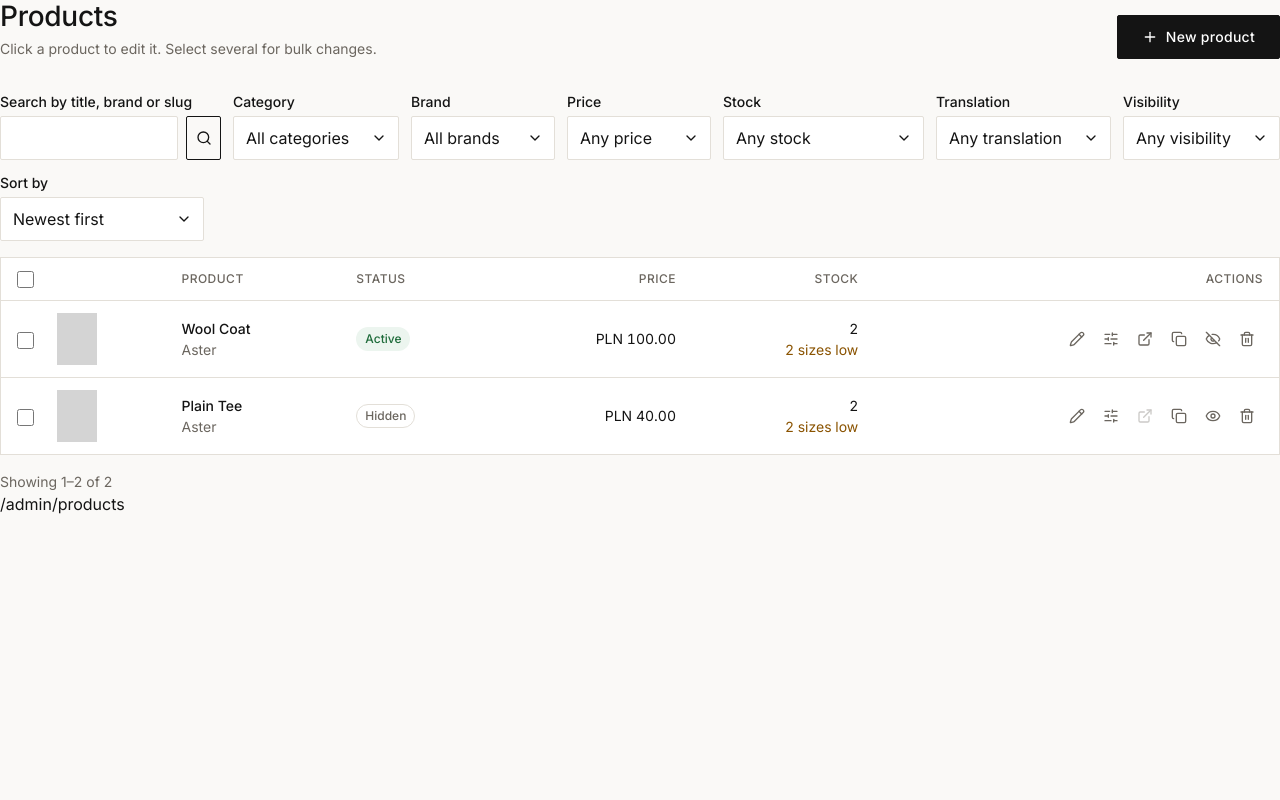
ProductsList › applies bulk actions to the selected products
Later steps or results of the test are not shown.
Expected: the link "Wool Coat" is shown, x1=182 y1=320 x2=251 y2=337
Click the checkbox named "Select all products on this page" at (25, 279), box x1=17 y1=271 x2=34 y2=288
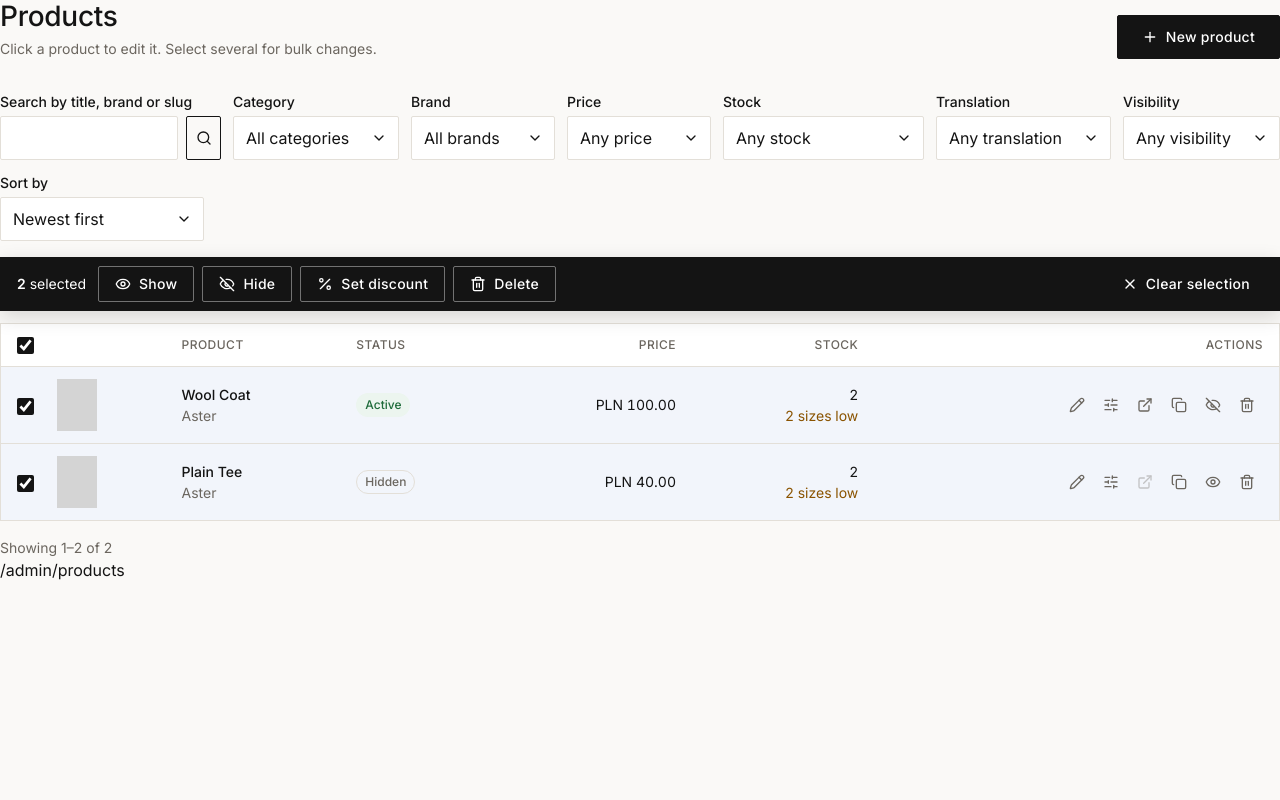
Expected: the element named "Bulk actions" shows "2 selected", x1=0 y1=257 x2=1279 y2=311
Click the button "Hide" at (247, 284), box x1=202 y1=266 x2=292 y2=302
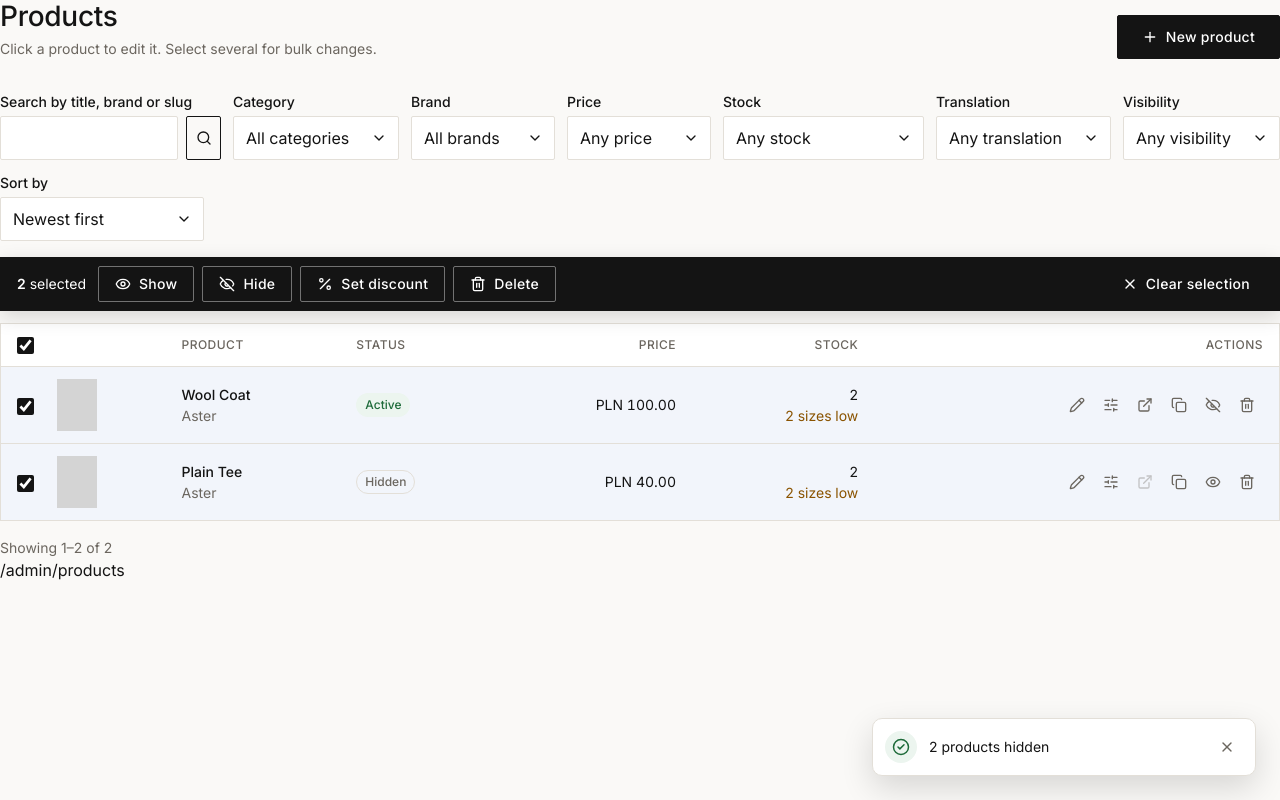
Click the checkbox named "Select Plain Tee" at (25, 483), box x1=17 y1=475 x2=34 y2=492
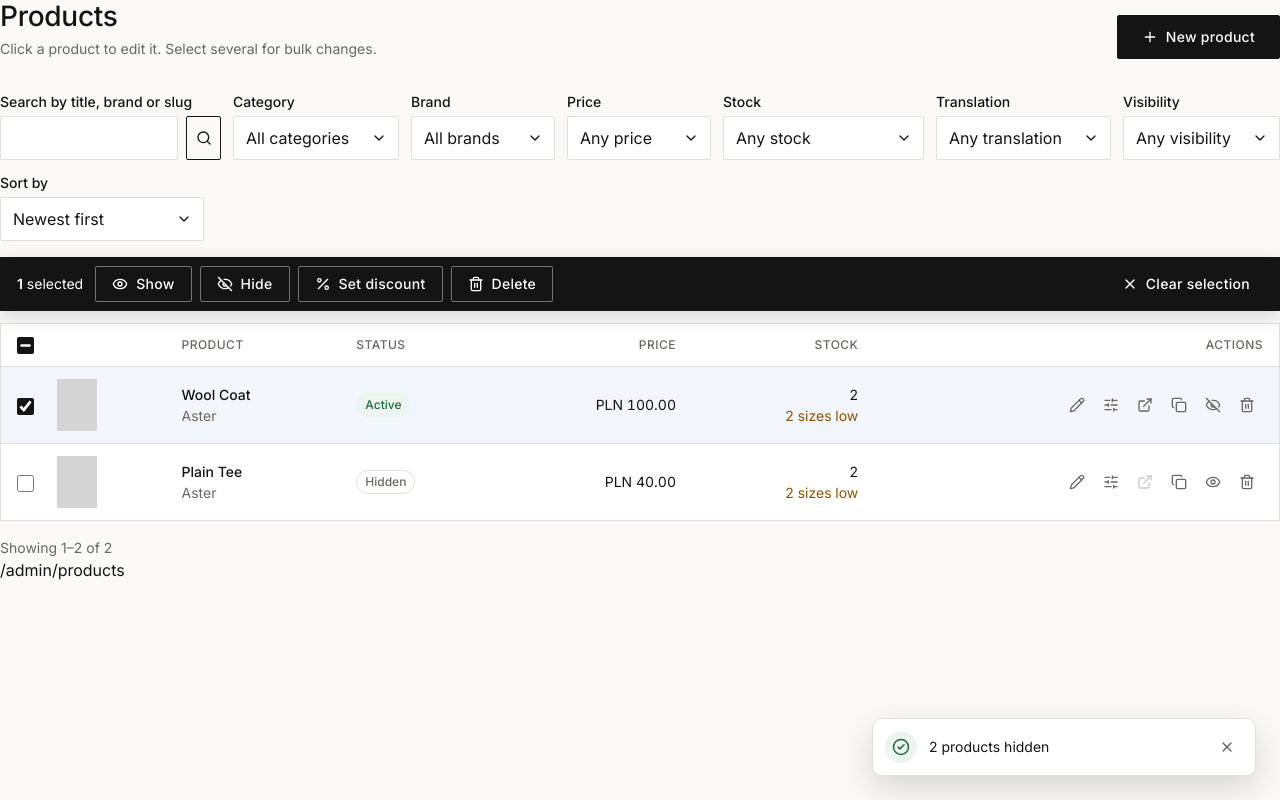
Expected: the element named "Bulk actions" shows "1 selected", x1=0 y1=257 x2=1279 y2=311
Click the button "Set discount" at (370, 284), box x1=298 y1=266 x2=442 y2=302
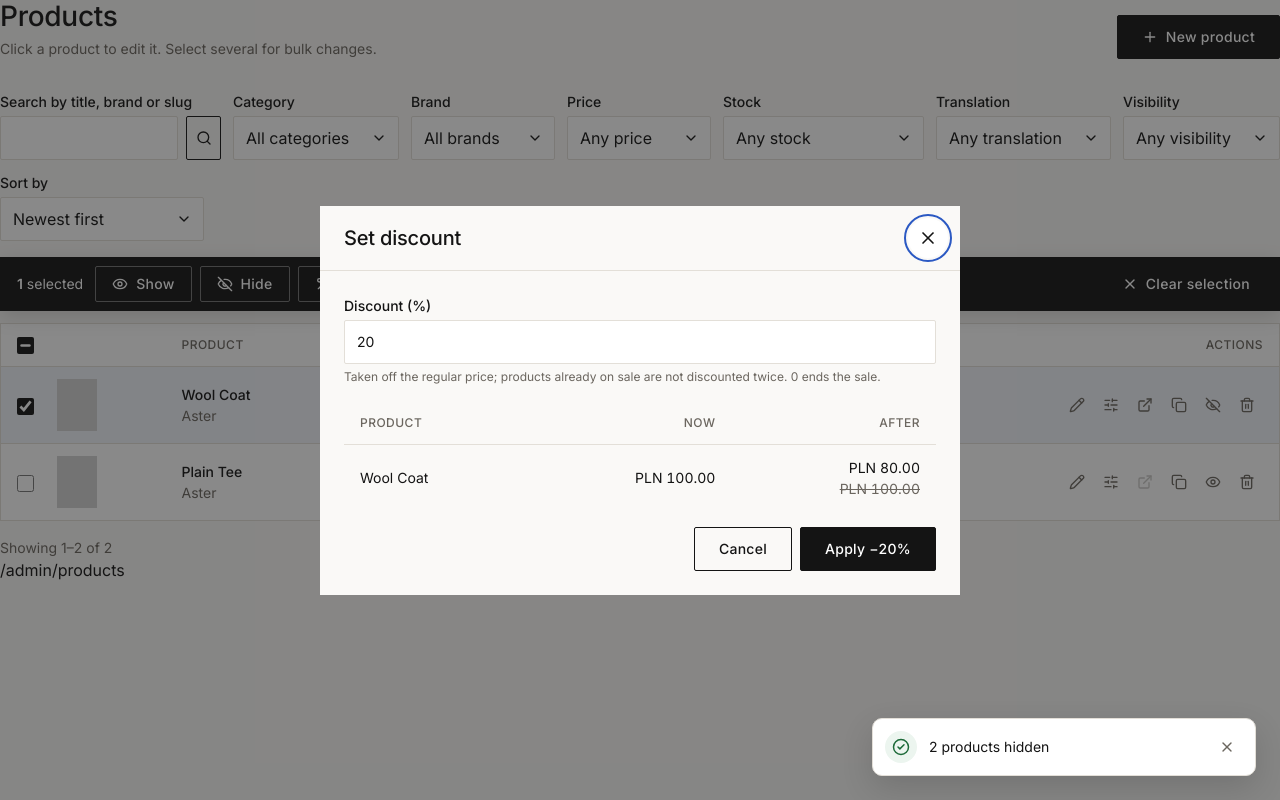
Replace the text in the number field labelled "Discount (%)" with "25" at (640, 342), box x1=344 y1=320 x2=936 y2=364
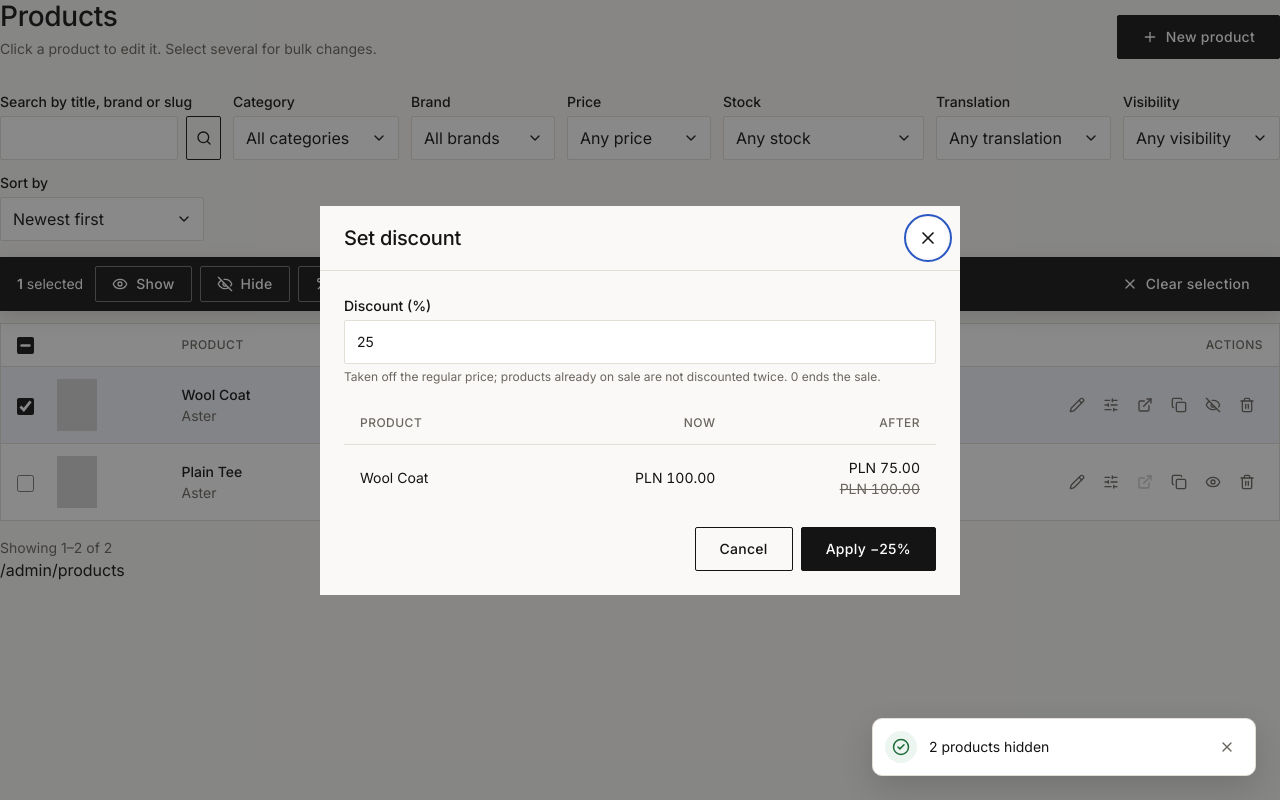
Expected: the text "PLN 75.00 PLN 100.00" is shown, x1=731 y1=444 x2=936 y2=510
